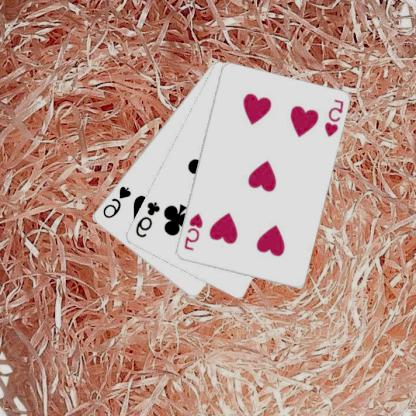5H: (323, 96, 347, 138), (183, 211, 206, 252)
6C: (134, 199, 163, 240)
9S: (101, 184, 134, 219)
